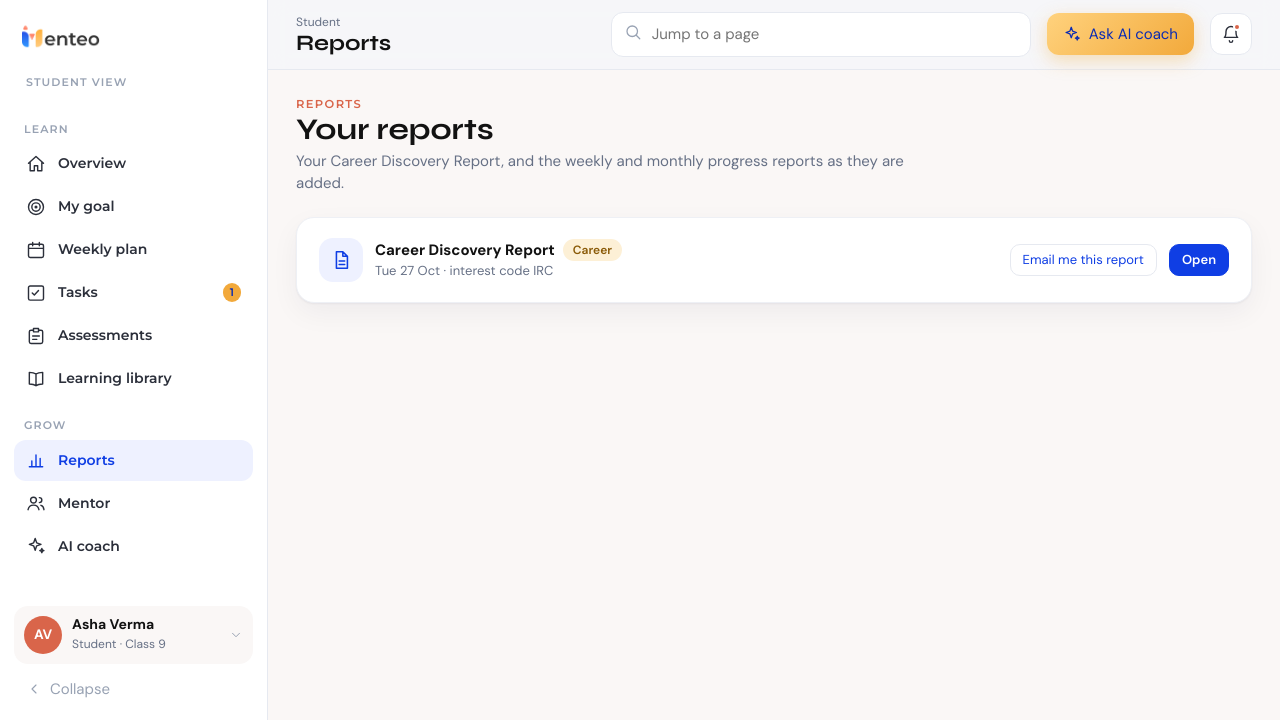
student: reports › says it will email it once it is ready, when the PDF is still preparing
The width and height of the screenshot is (1280, 720).
Click the button "Email me this report" at x=1083, y=260, box [1010,244,1157,276]
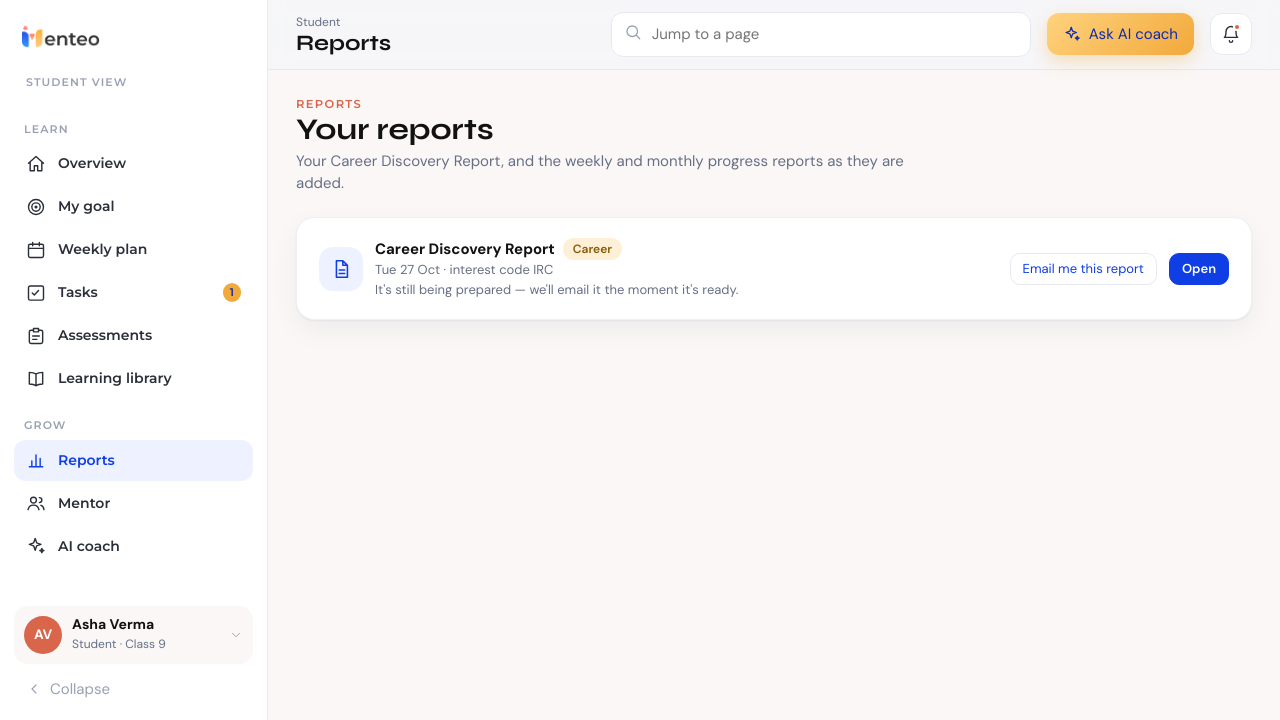
Expected: the text "we'll email it the moment it's ready" is shown, [375,281,738,298]
